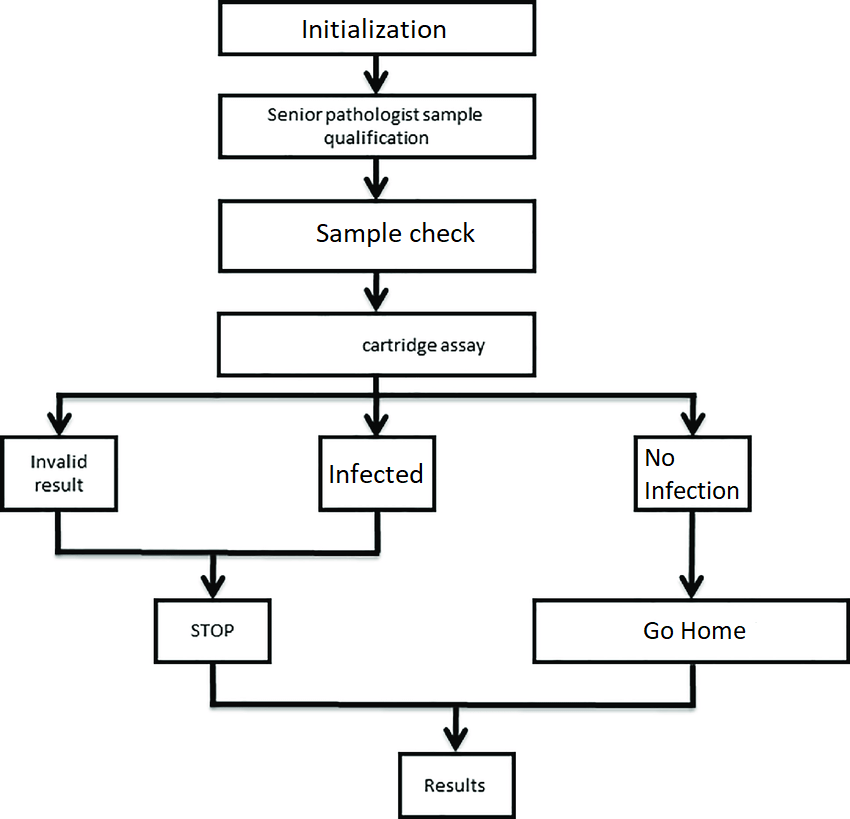arrow: (206, 659, 475, 758), (441, 658, 700, 756), (370, 384, 706, 438), (48, 386, 380, 440), (196, 508, 385, 598), (48, 510, 230, 600), (676, 508, 708, 603), (361, 373, 388, 435), (360, 148, 390, 200), (363, 269, 389, 315), (361, 50, 390, 91)
process: (213, 195, 540, 276), (213, 90, 541, 163), (214, 309, 545, 380), (213, 1, 540, 61), (626, 431, 756, 518), (314, 430, 439, 515), (1, 433, 121, 516), (150, 593, 275, 668), (394, 749, 516, 819)
text: (263, 105, 483, 150), (643, 445, 741, 500), (315, 218, 478, 244), (298, 13, 448, 41), (358, 334, 488, 356), (26, 451, 88, 495), (326, 460, 423, 488), (640, 618, 748, 641), (420, 773, 486, 795), (184, 619, 236, 639)
